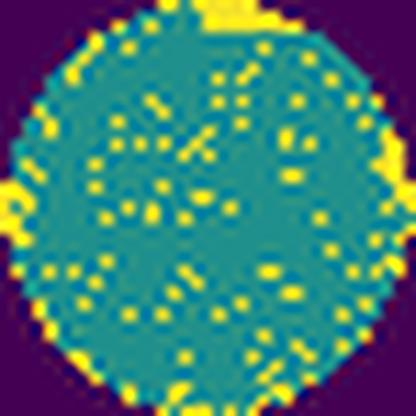Edge-Loc: (184, 0, 309, 39), (368, 125, 415, 220), (0, 177, 38, 257)
